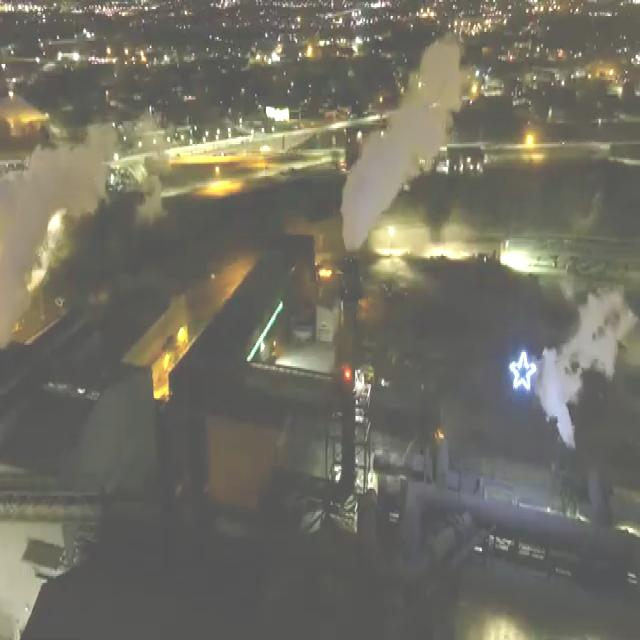smoke: (341, 34, 465, 258), (6, 130, 115, 345), (541, 292, 640, 457)
